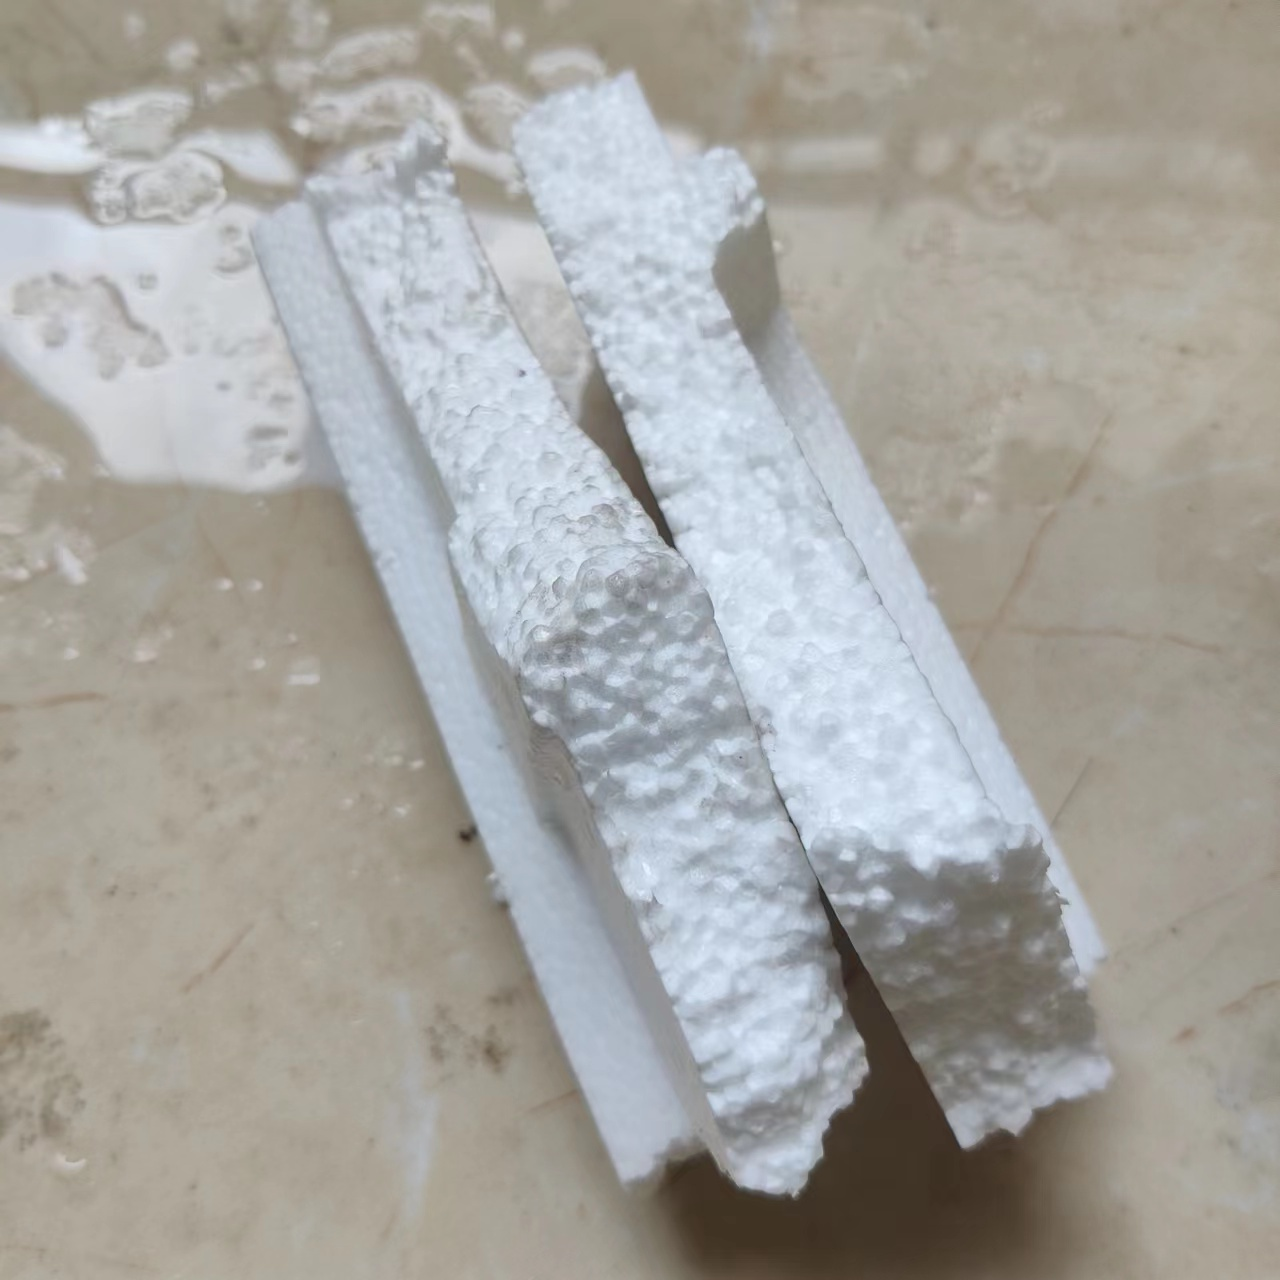5/可回收垃圾/泡沫: (248, 121, 871, 1204), (508, 72, 1124, 1153)
